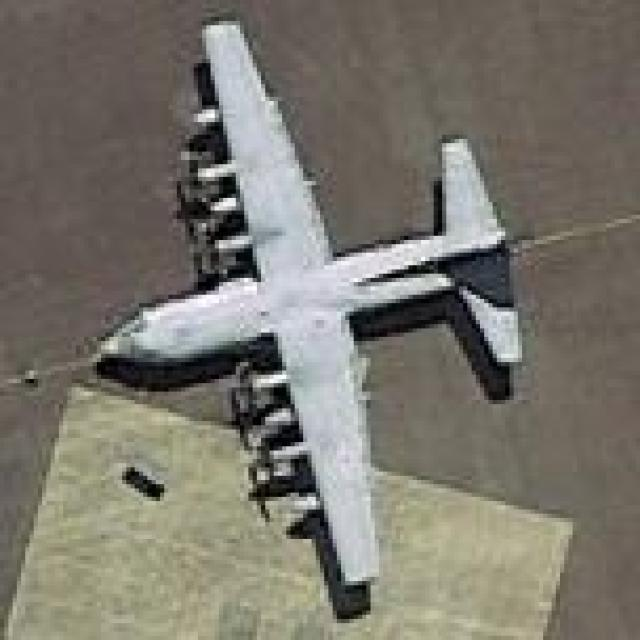C-130_TopDown: (82, 15, 529, 623)
